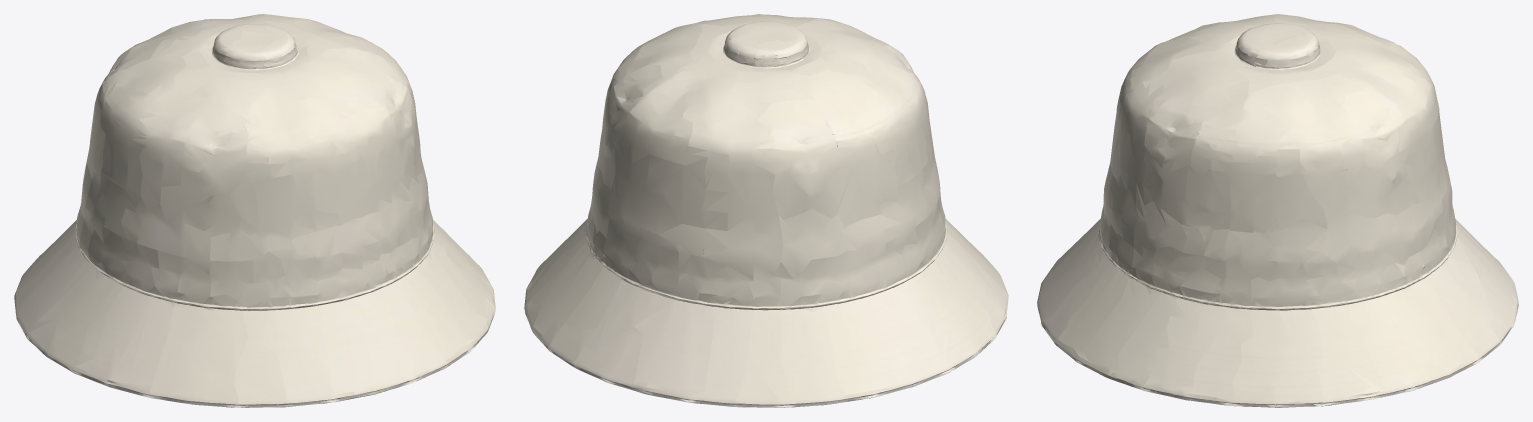
File: mk_bucket_u1.glb
3 renders of one model, left to right at view 1: azimuth 30°, elevation 25°; view 2: azimuth 150°, elevation 25°; view 3: azimuth 270°, elevation 25°, orthographic.
Size of the model in its own units: 1.9 by 1.17 by 1.9.
1 material, 1 textured.
